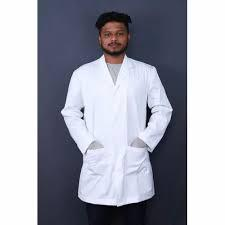lab_coat: (71, 64, 157, 199)
